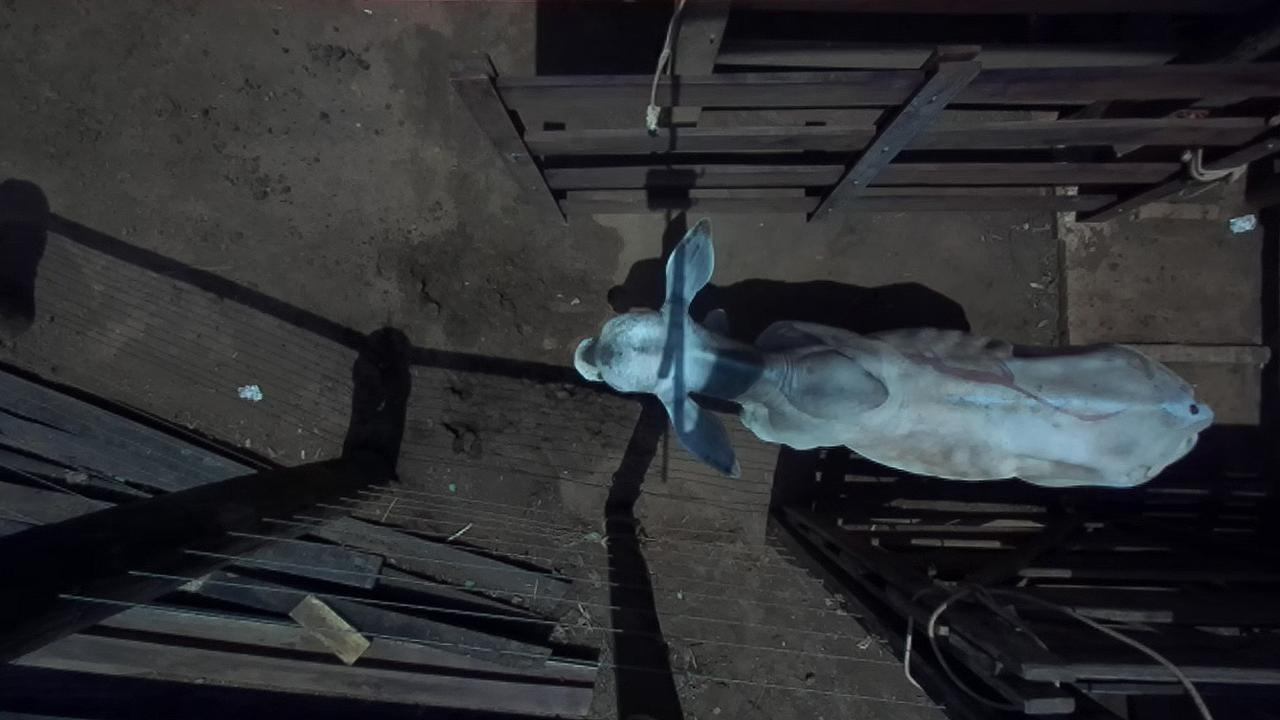cattle: (574, 220, 1215, 491)
